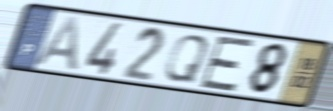2: (119, 25, 168, 84)
4: (84, 20, 123, 76)
8: (245, 42, 291, 97)
A: (31, 14, 81, 74)
E: (197, 35, 258, 94)
Q: (161, 33, 212, 85)
